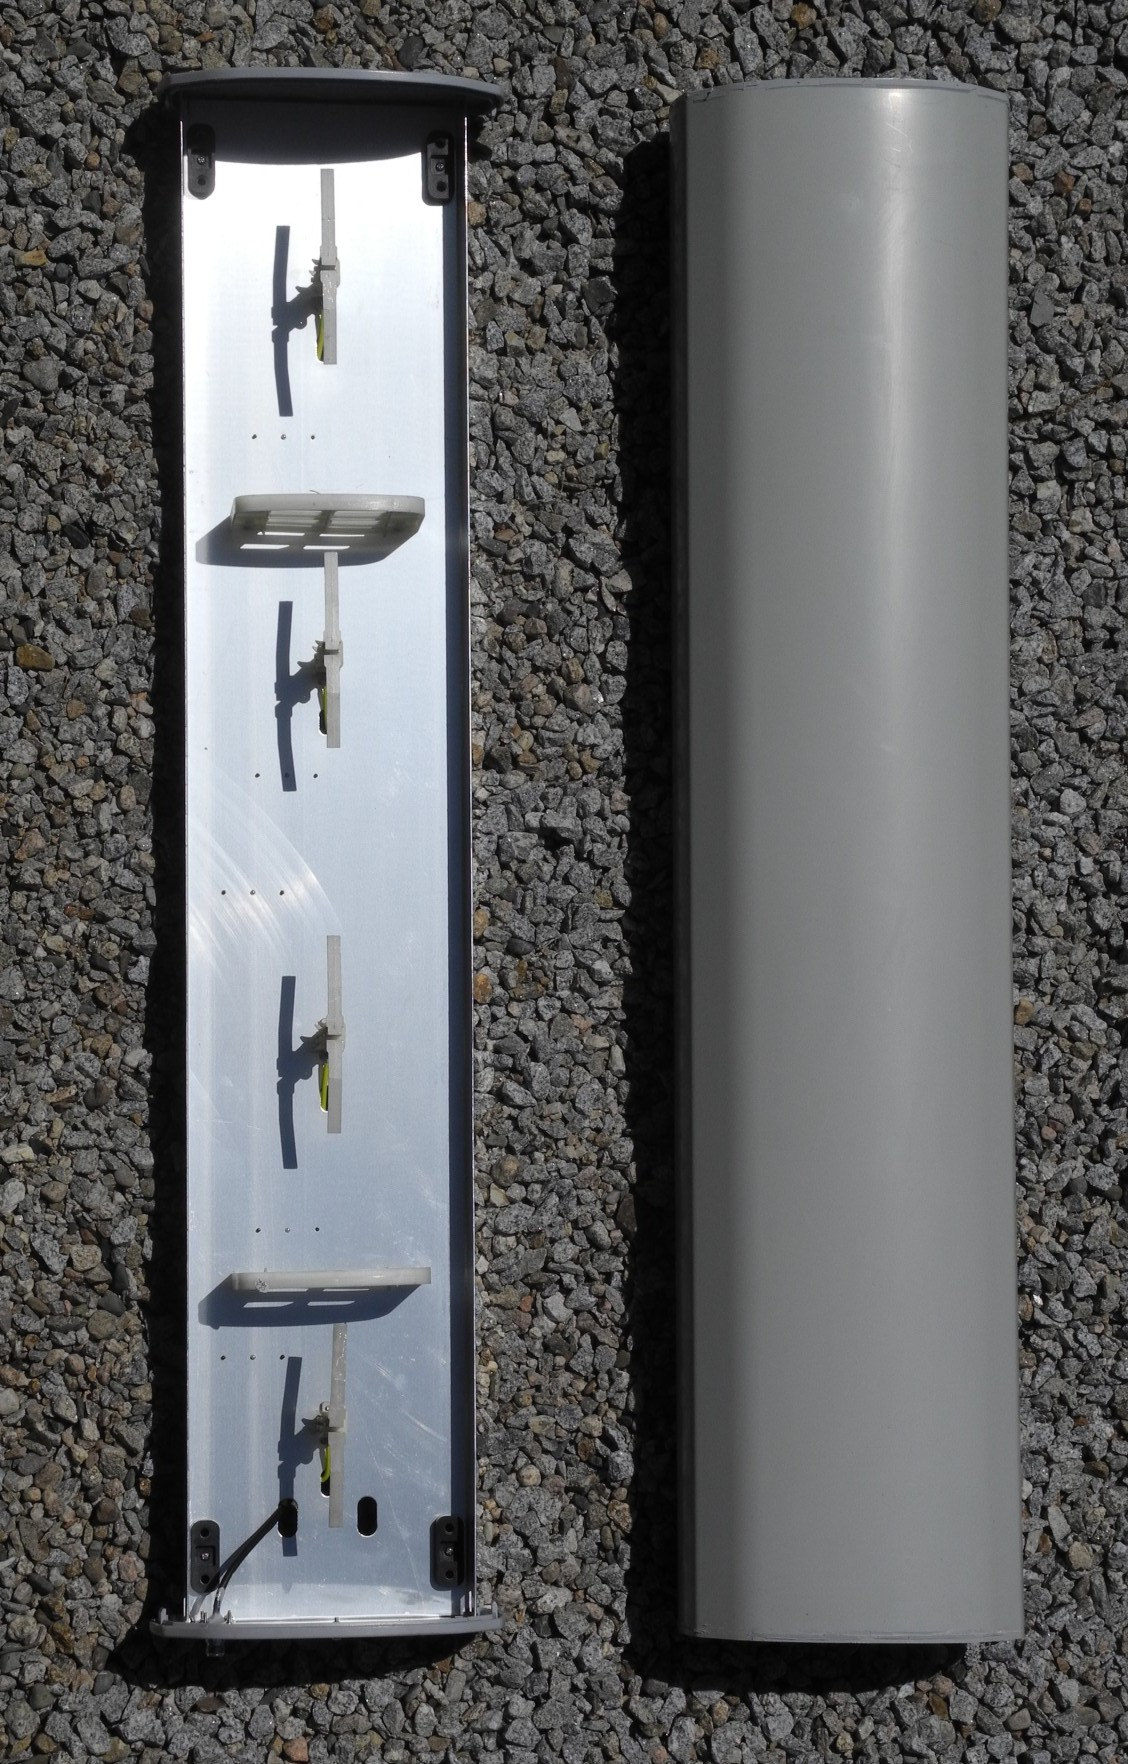sa: (655, 66, 1050, 1692), (123, 75, 508, 1677)
